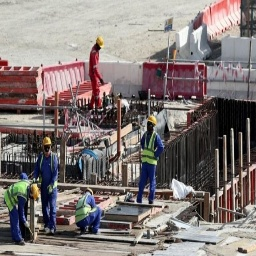helmet: (42, 136, 52, 150)
person: (0, 177, 43, 246), (36, 135, 60, 238), (136, 117, 161, 204), (89, 37, 108, 112)
vest: (4, 182, 28, 210), (140, 132, 157, 165)
